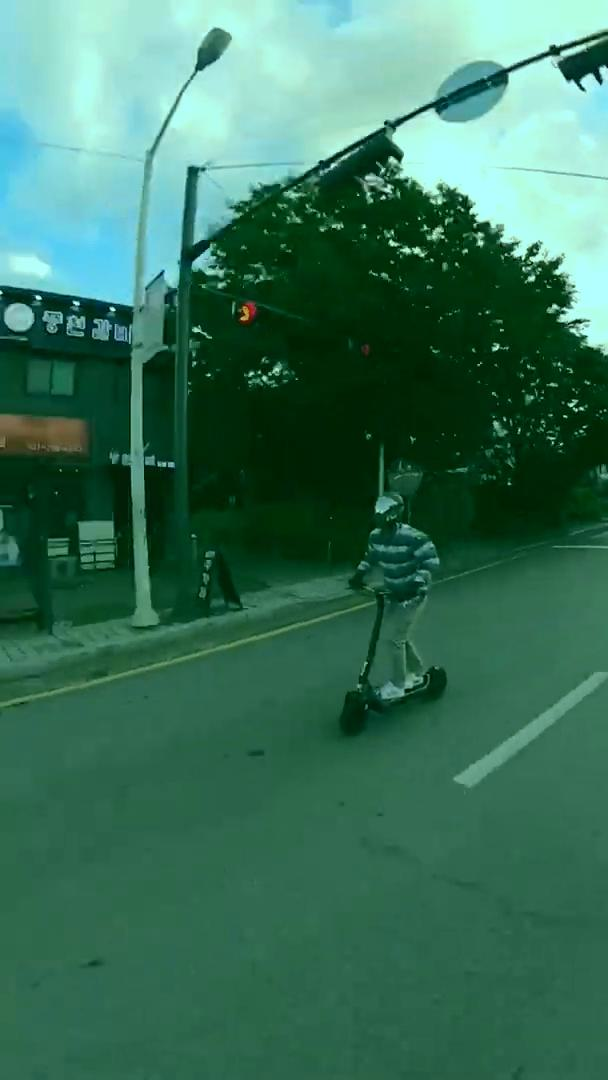helmet: (335, 490, 449, 741)
